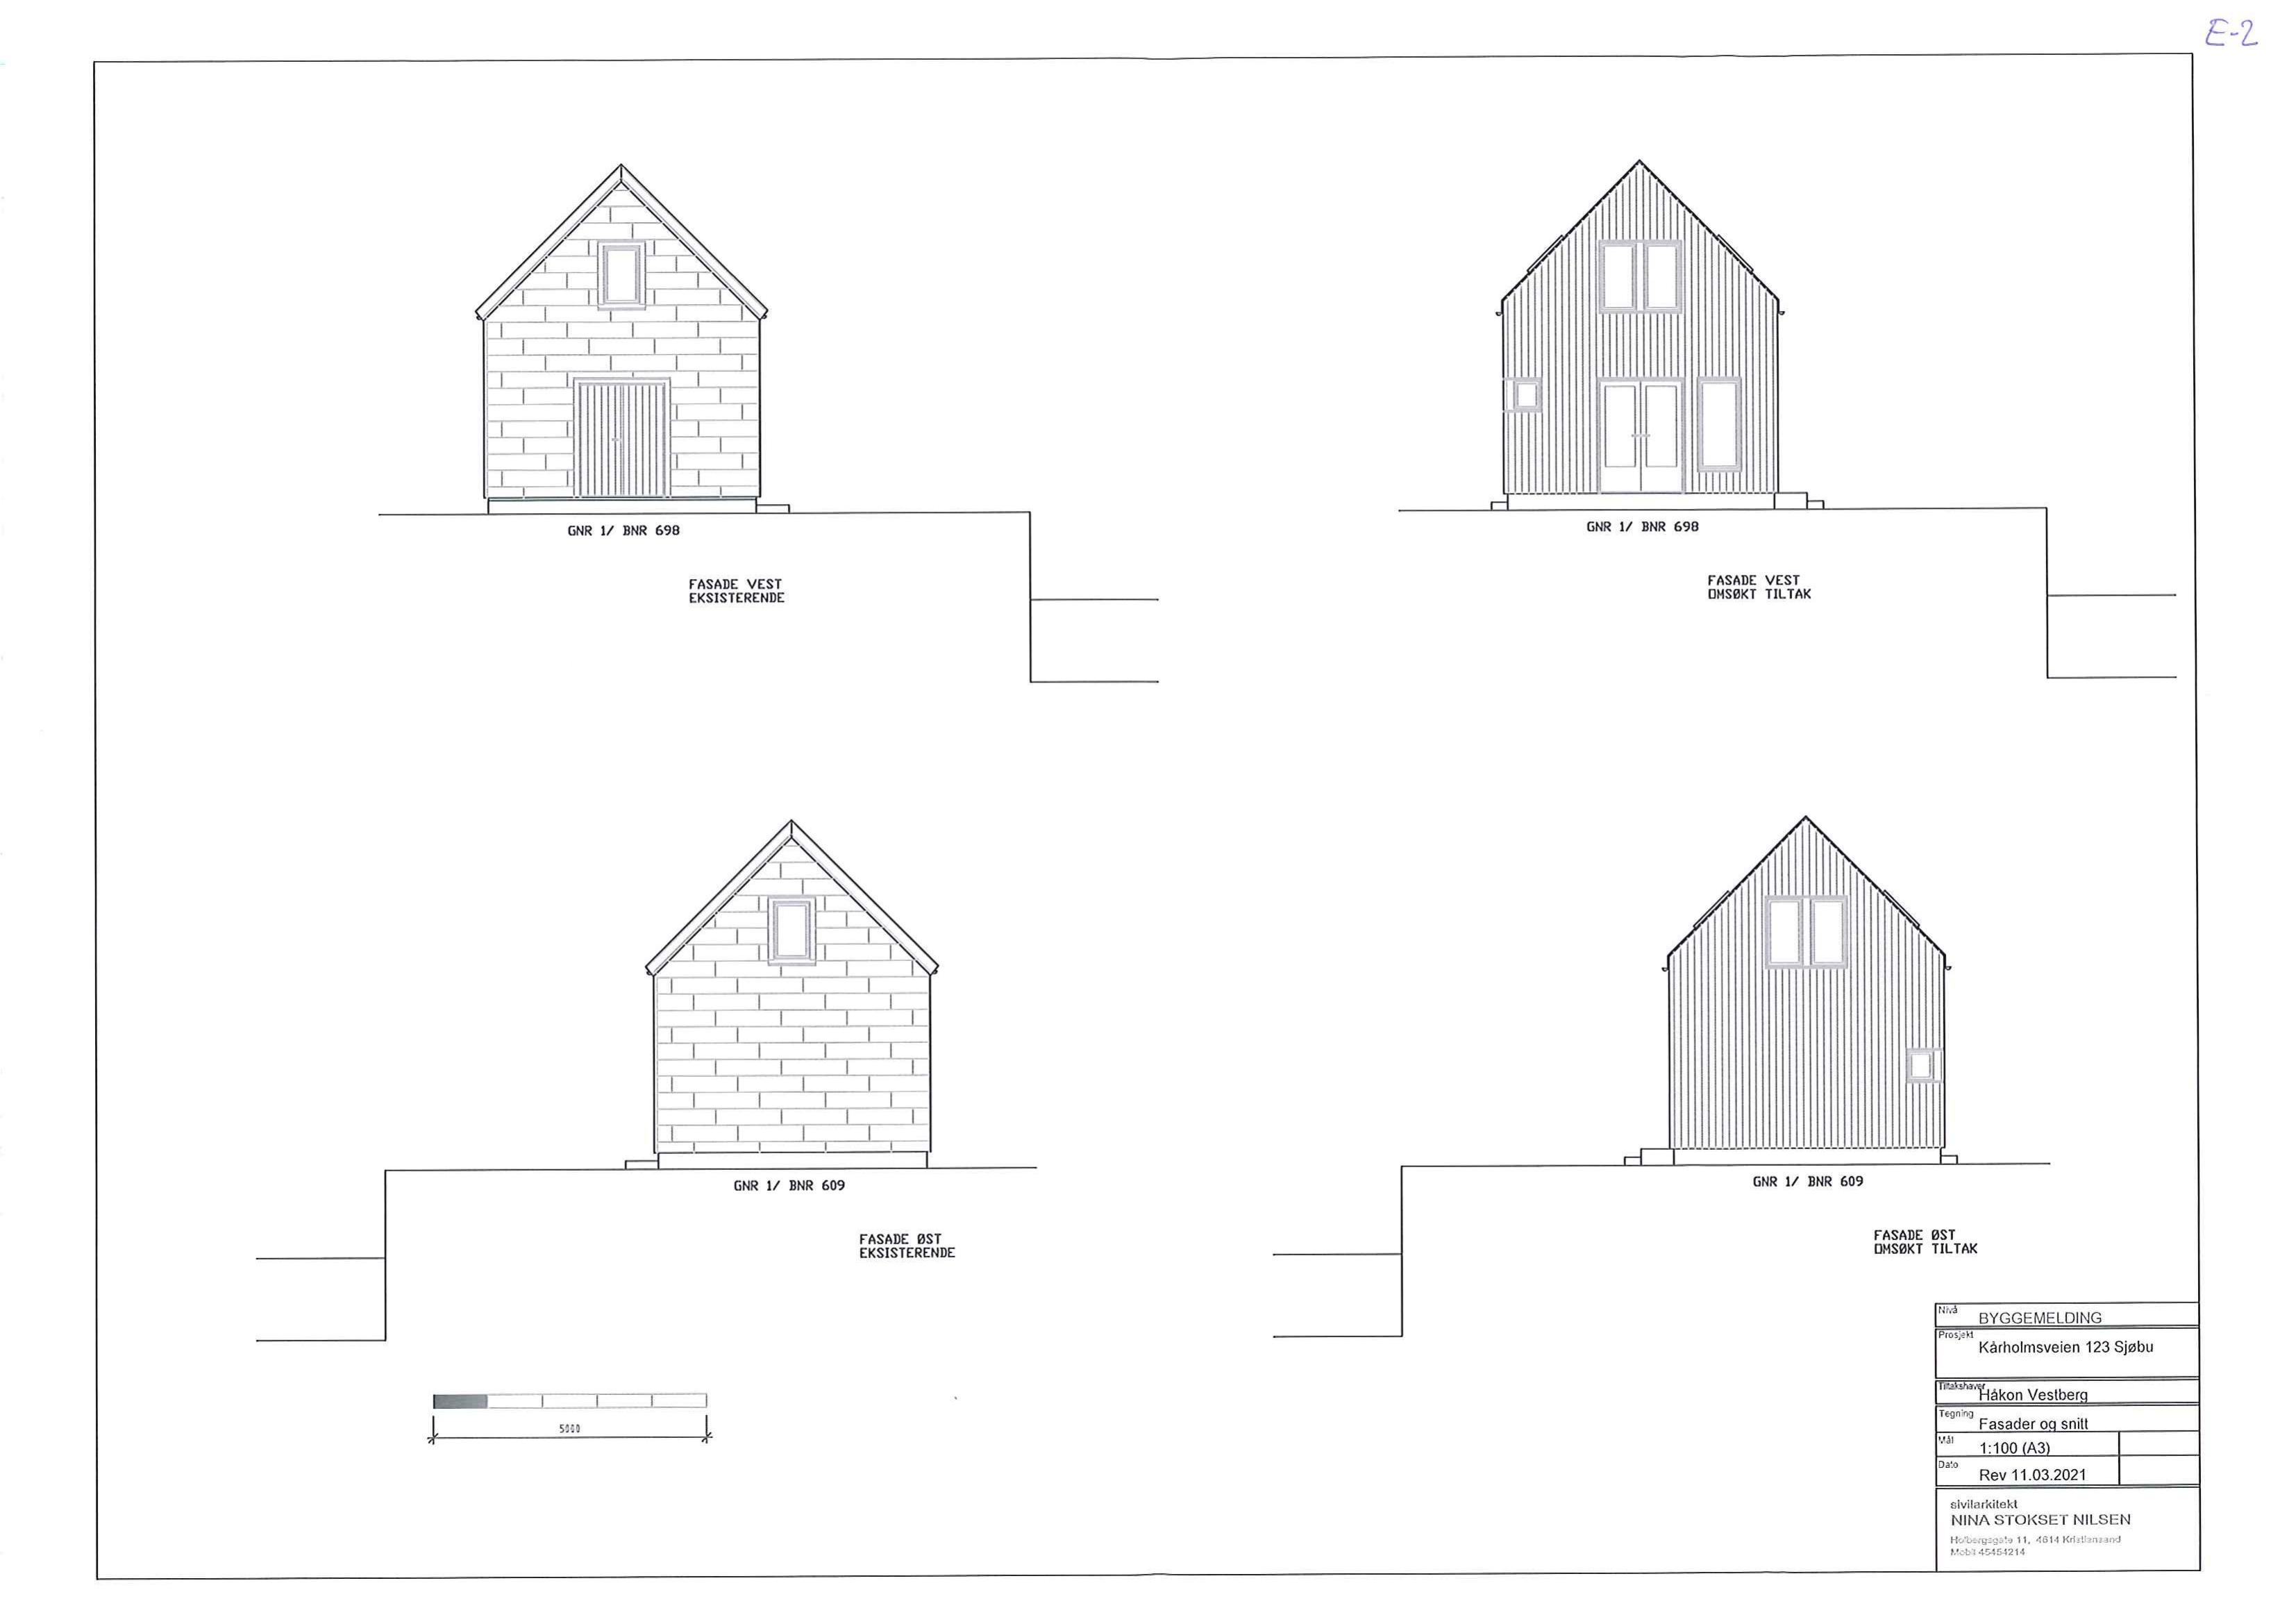fasade: (443, 156, 782, 505), (1494, 156, 1818, 509), (639, 818, 956, 1174), (1650, 814, 1955, 1165)
